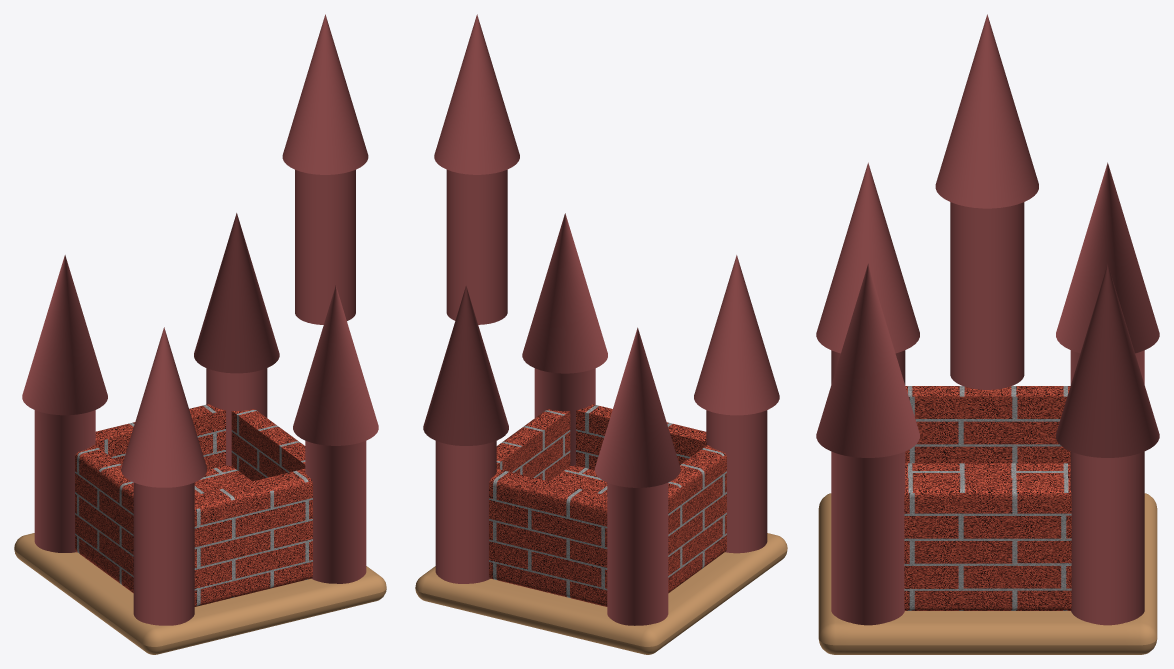
File: cattle.obj
3 renders of one model, left to right at view 1: azimuth 30°, elevation 25°; view 2: azimuth 150°, elevation 25°; view 3: azimuth 270°, elevation 25°, orthographic. The views are drawn at different scales.
Visible parts, largest first — view 1: 立方体.1, 圆锥.1, 圆锥.1.4, 圆锥.1.3, 圆锥.1.1, 立方体, 圆锥.1.2; view 2: 立方体.1, 圆锥.1, 圆锥.1.1, 圆锥.1.2, 圆锥.1.4, 立方体, 圆锥.1.3; view 3: 立方体.1, 圆锥.1, 圆锥.1.3, 圆锥.1.2, 立方体, 圆锥.1.4, 圆锥.1.1.
Part boxes in pixels (<box>): 立方体.1: <box>75,404,312,606</box>; 圆锥.1: <box>282,14,368,324</box>; 圆锥.1.4: <box>121,327,206,625</box>; 圆锥.1.3: <box>293,285,378,583</box>; 圆锥.1.1: <box>22,255,107,552</box>; 立方体: <box>14,533,386,654</box>; 圆锥.1.2: <box>194,213,279,465</box>; 立方体.1: <box>489,404,726,606</box>; 圆锥.1: <box>434,14,519,324</box>; 圆锥.1.1: <box>595,327,680,625</box>; 圆锥.1.2: <box>423,285,508,583</box>; 圆锥.1.4: <box>694,255,779,553</box>; 立方体: <box>415,533,787,654</box>; 圆锥.1.3: <box>522,213,607,465</box>; 立方体.1: <box>904,386,1071,610</box>; 圆锥.1: <box>935,14,1038,389</box>; 圆锥.1.3: <box>816,264,919,625</box>; 圆锥.1.2: <box>1056,264,1159,625</box>; 立方体: <box>818,493,1157,654</box>; 圆锥.1.4: <box>816,162,919,384</box>; 圆锥.1.1: <box>1056,162,1159,384</box>.
Size of the model in its own units: 235 by 422 by 203.
3 materials, 1 textured.
